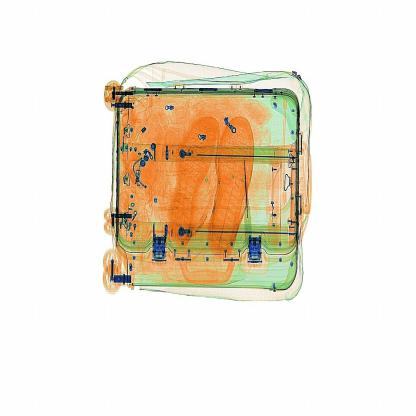wrench: (237, 157, 254, 250)
